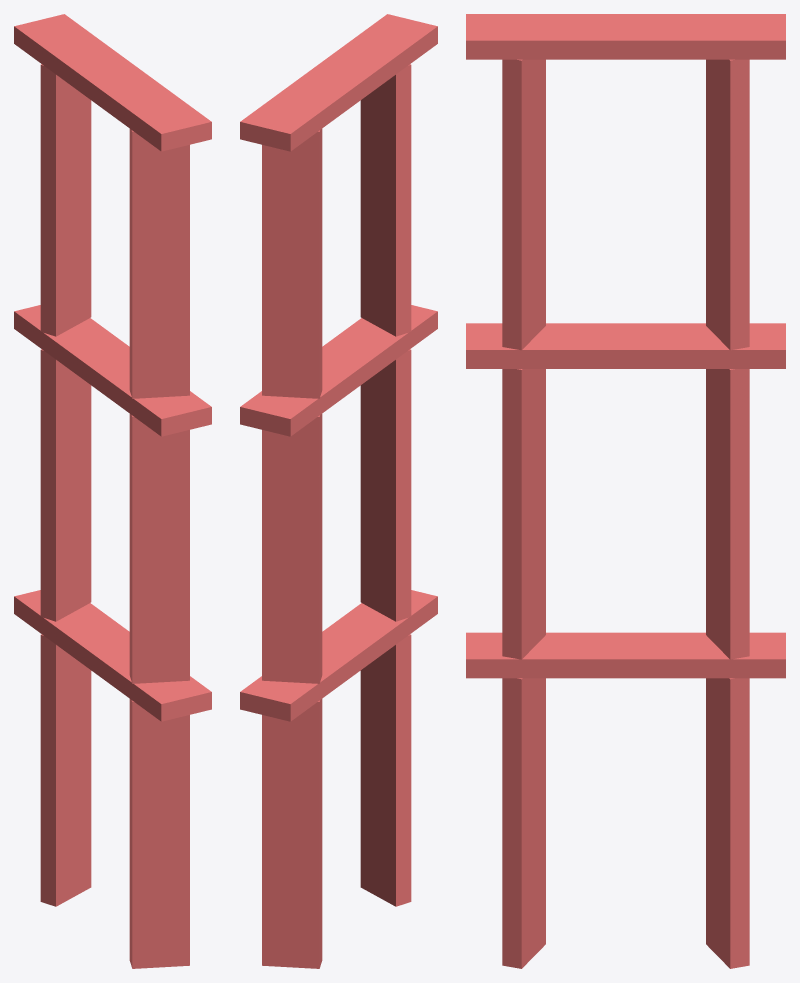
File: keva_tilted_pillar_triple_pi_structure.dae
3 renders of one model, left to right at view 1: azimuth 30°, elevation 25°; view 2: azimuth 150°, elevation 25°; view 3: azimuth 270°, elevation 25°, orthographic. The views are drawn at different scales.
Visible parts, largest first — view 1: base (×9); view 2: base (×9); view 3: base (×9).
Part boxes in pixels (bbox=[...]): base (×9): bbox=[14, 14, 211, 968]; base (×9): bbox=[240, 14, 437, 968]; base (×9): bbox=[466, 14, 785, 968].
Bounding box in the file's own units: 0.0244 × 0.1177 × 0.3768.
